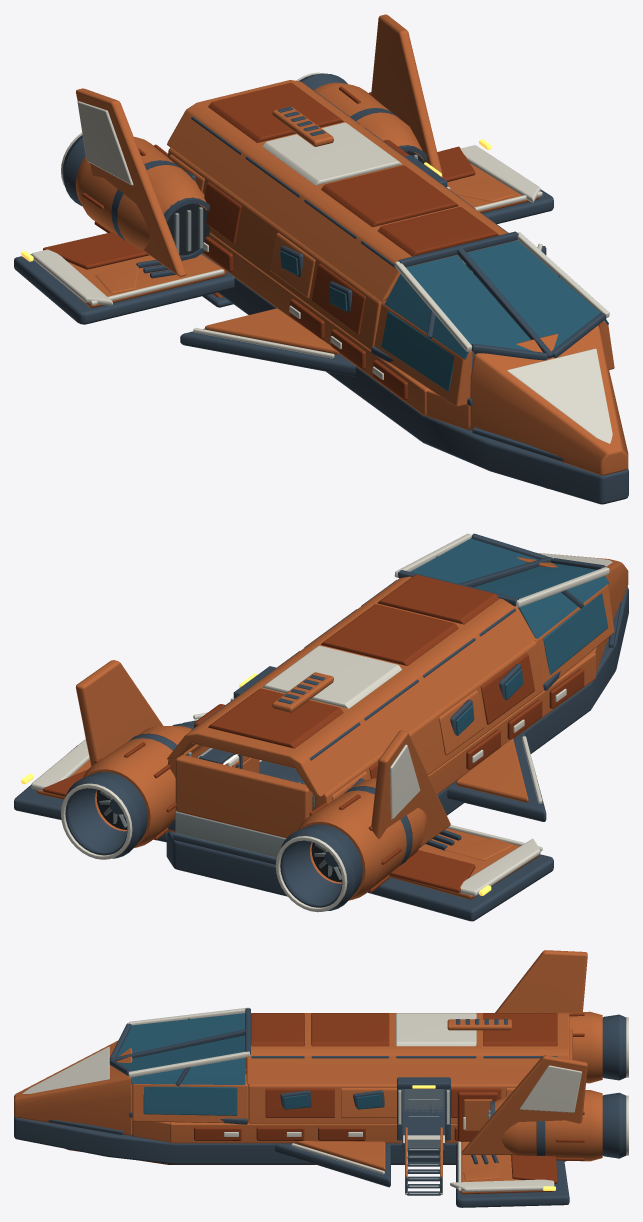
The model's file is SSTO_Lander.glb.
The picture shows the model from 3 angles, top to bottom: view 1: azimuth 30°, elevation 25°; view 2: azimuth 150°, elevation 25°; view 3: azimuth 270°, elevation 25°; orthographic projection. The views are drawn at different scales.
Parts seen in each view (by area): view 1: SM_SSTO_Roof, SM_SSTO_Wings, SM_SSTO_LowHull, SM_SSTO_UpperHull, SM_SSTO_CockpitGlass, SM_SSTO_Engines; view 2: SM_SSTO_Roof, SM_SSTO_Wings, SM_SSTO_Engines, SM_SSTO_UpperHull, SM_SSTO_LowHull, SM_SSTO_CockpitGlass, SM_SSTO_InteriorFloor, SM_SSTO_InteriorProps; view 3: SM_SSTO_Roof, SM_SSTO_LowHull, SM_SSTO_Wings, SM_SSTO_UpperHull, SM_SSTO_Engines, SM_SSTO_CockpitGlass, SM_SSTO_InteriorFloor, SM_SSTO_Ladder.
Boxes of the visible parts, <box> form: SM_SSTO_Roof: <box>167,80,518,301</box>; SM_SSTO_Wings: <box>14,14,553,376</box>; SM_SSTO_LowHull: <box>202,233,628,504</box>; SM_SSTO_UpperHull: <box>167,140,614,406</box>; SM_SSTO_CockpitGlass: <box>381,240,608,391</box>; SM_SSTO_Engines: <box>61,72,426,260</box>; SM_SSTO_Roof: <box>167,570,535,796</box>; SM_SSTO_Wings: <box>14,660,553,921</box>; SM_SSTO_Engines: <box>61,723,427,912</box>; SM_SSTO_UpperHull: <box>167,533,614,838</box>; SM_SSTO_LowHull: <box>166,552,628,896</box>; SM_SSTO_CockpitGlass: <box>410,538,608,674</box>; SM_SSTO_InteriorFloor: <box>173,646,605,864</box>; SM_SSTO_InteriorProps: <box>197,748,313,810</box>; SM_SSTO_Roof: <box>245,1008,569,1084</box>; SM_SSTO_LowHull: <box>14,1040,566,1164</box>; SM_SSTO_Wings: <box>275,950,587,1207</box>; SM_SSTO_UpperHull: <box>109,1007,572,1141</box>; SM_SSTO_Engines: <box>488,1011,628,1161</box>; SM_SSTO_CockpitGlass: <box>116,1013,245,1115</box>; SM_SSTO_InteriorFloor: <box>125,1089,445,1147</box>; SM_SSTO_Ladder: <box>403,1127,444,1195</box>.
Size of the model in its own units: 17.99 by 6.87 by 27.
